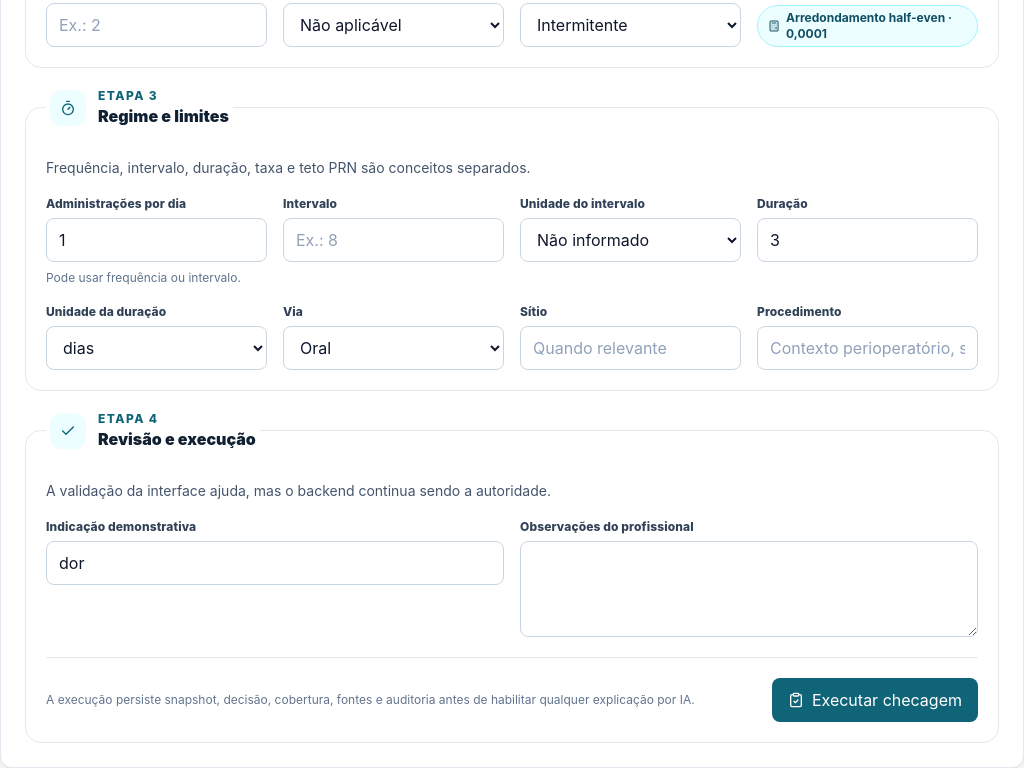
Test case: checagem de prescrição › mostra detalhes técnicos, evidências e explicação por audit_id
(page scrolled)
Click the button "Executar checagem" at (875, 700), box x1=772 y1=678 x2=978 y2=722
(page scrolled)
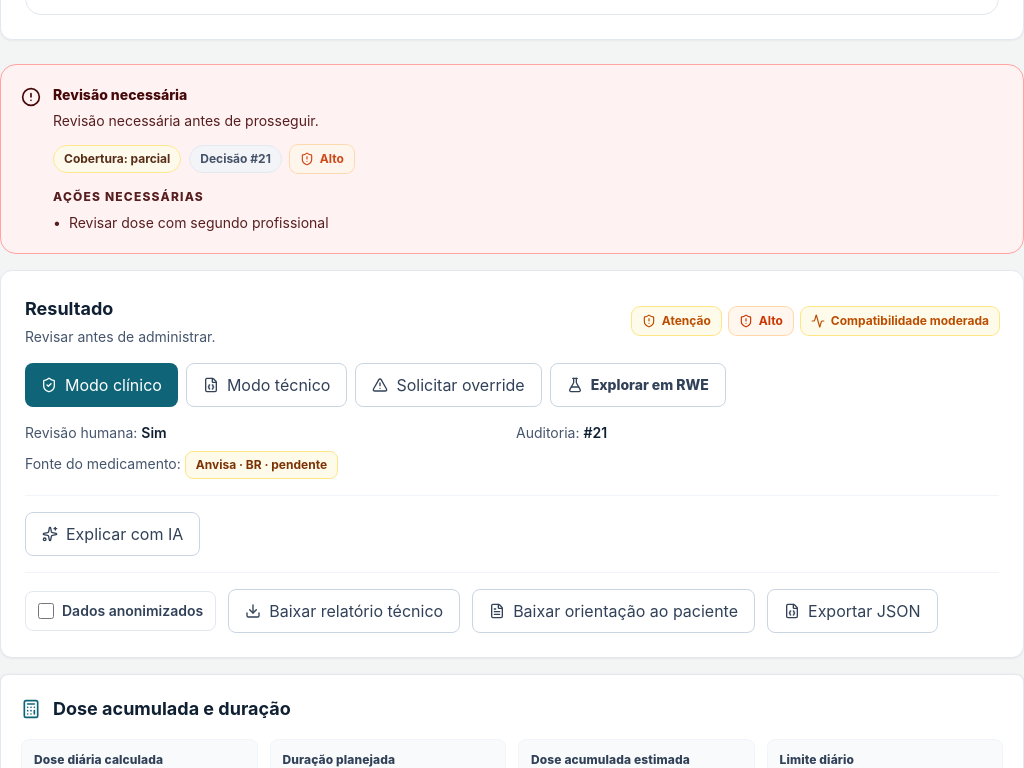
Expected: the text "Revisão necessária antes de prosseguir." is shown, x1=53 y1=112 x2=319 y2=128
Click the button "Modo técnico" at (267, 384), box x1=186 y1=362 x2=347 y2=406
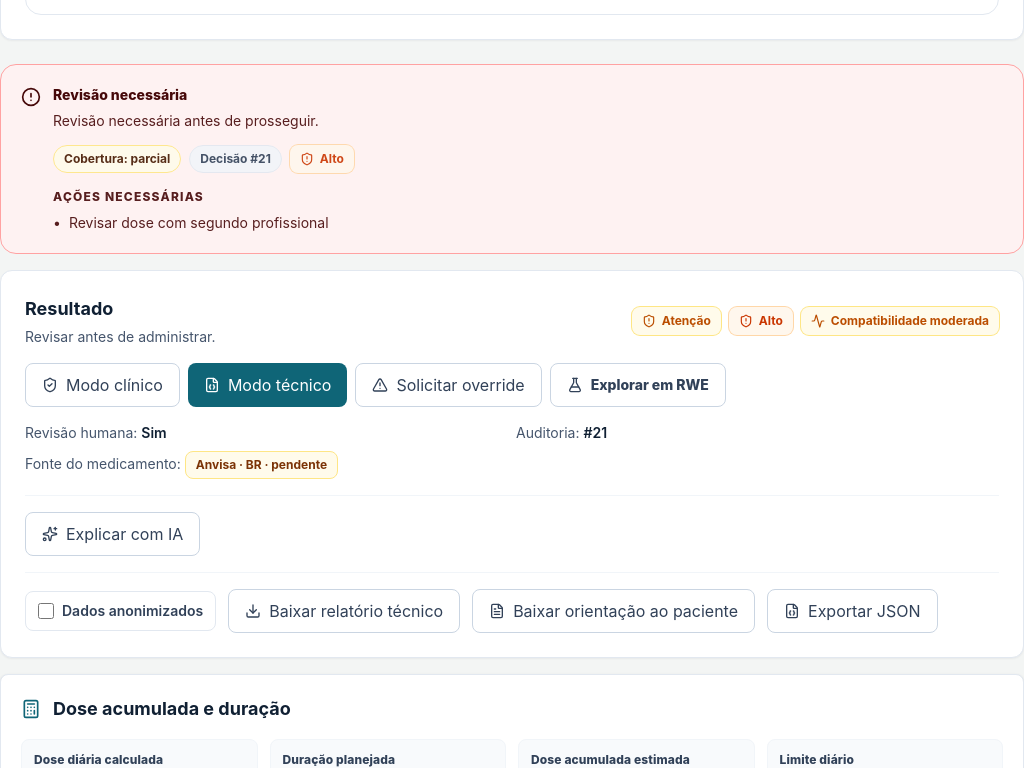
Click the button "Explicar com IA" at (113, 534), box x1=25 y1=512 x2=200 y2=556
(page scrolled)
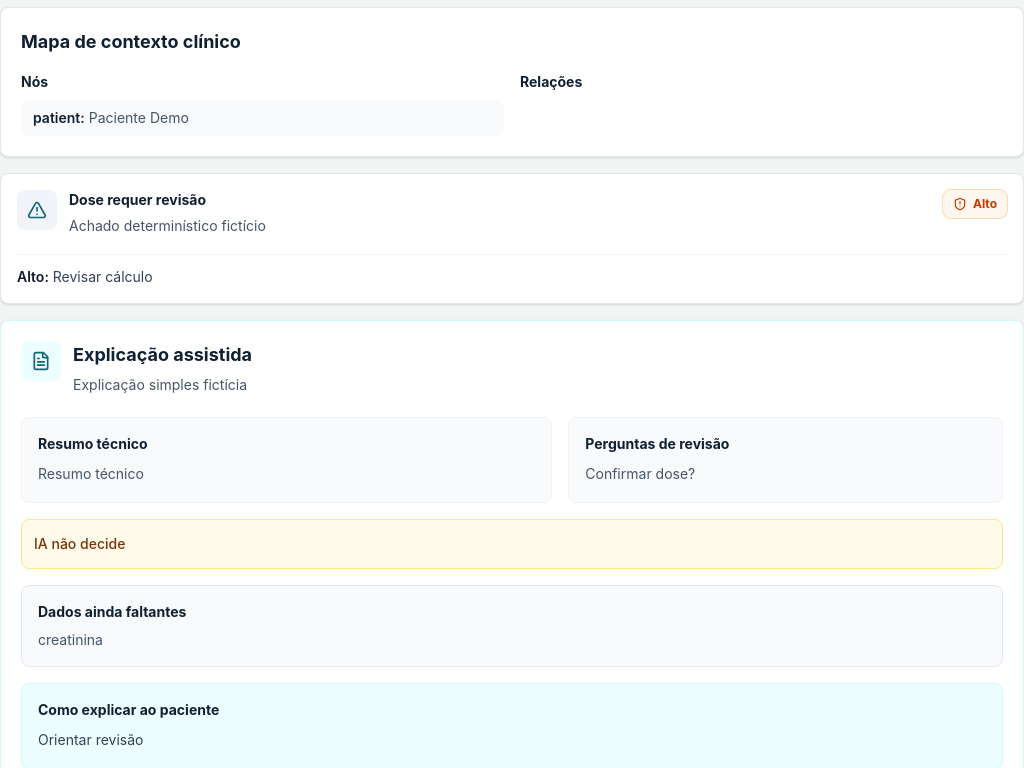
Expected: the text "Explicação simples fictícia" is shown, x1=73 y1=372 x2=252 y2=396
